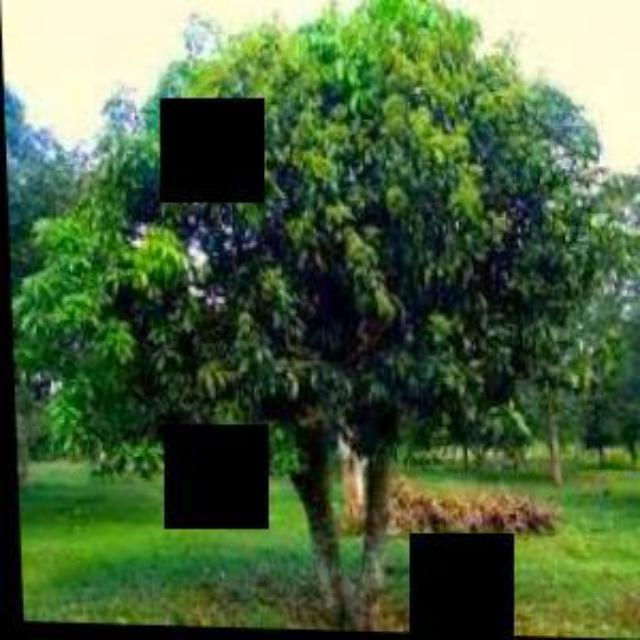tree: (10, 1, 636, 626)
